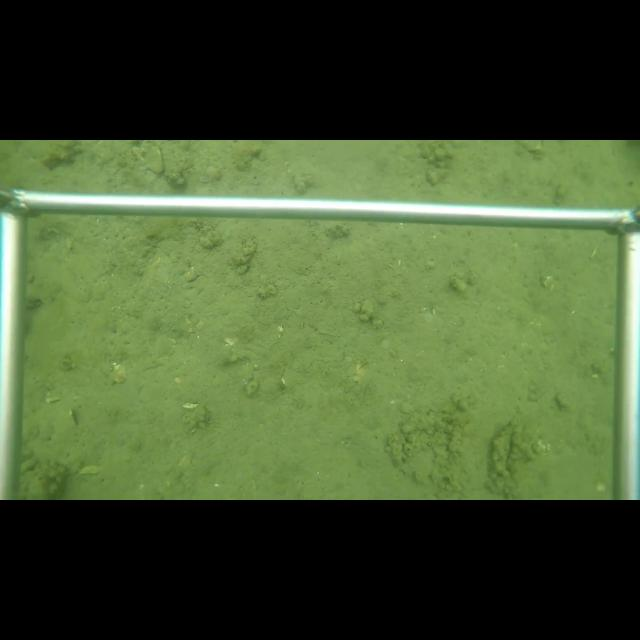Oyster-Closed: (130, 144, 167, 177)
